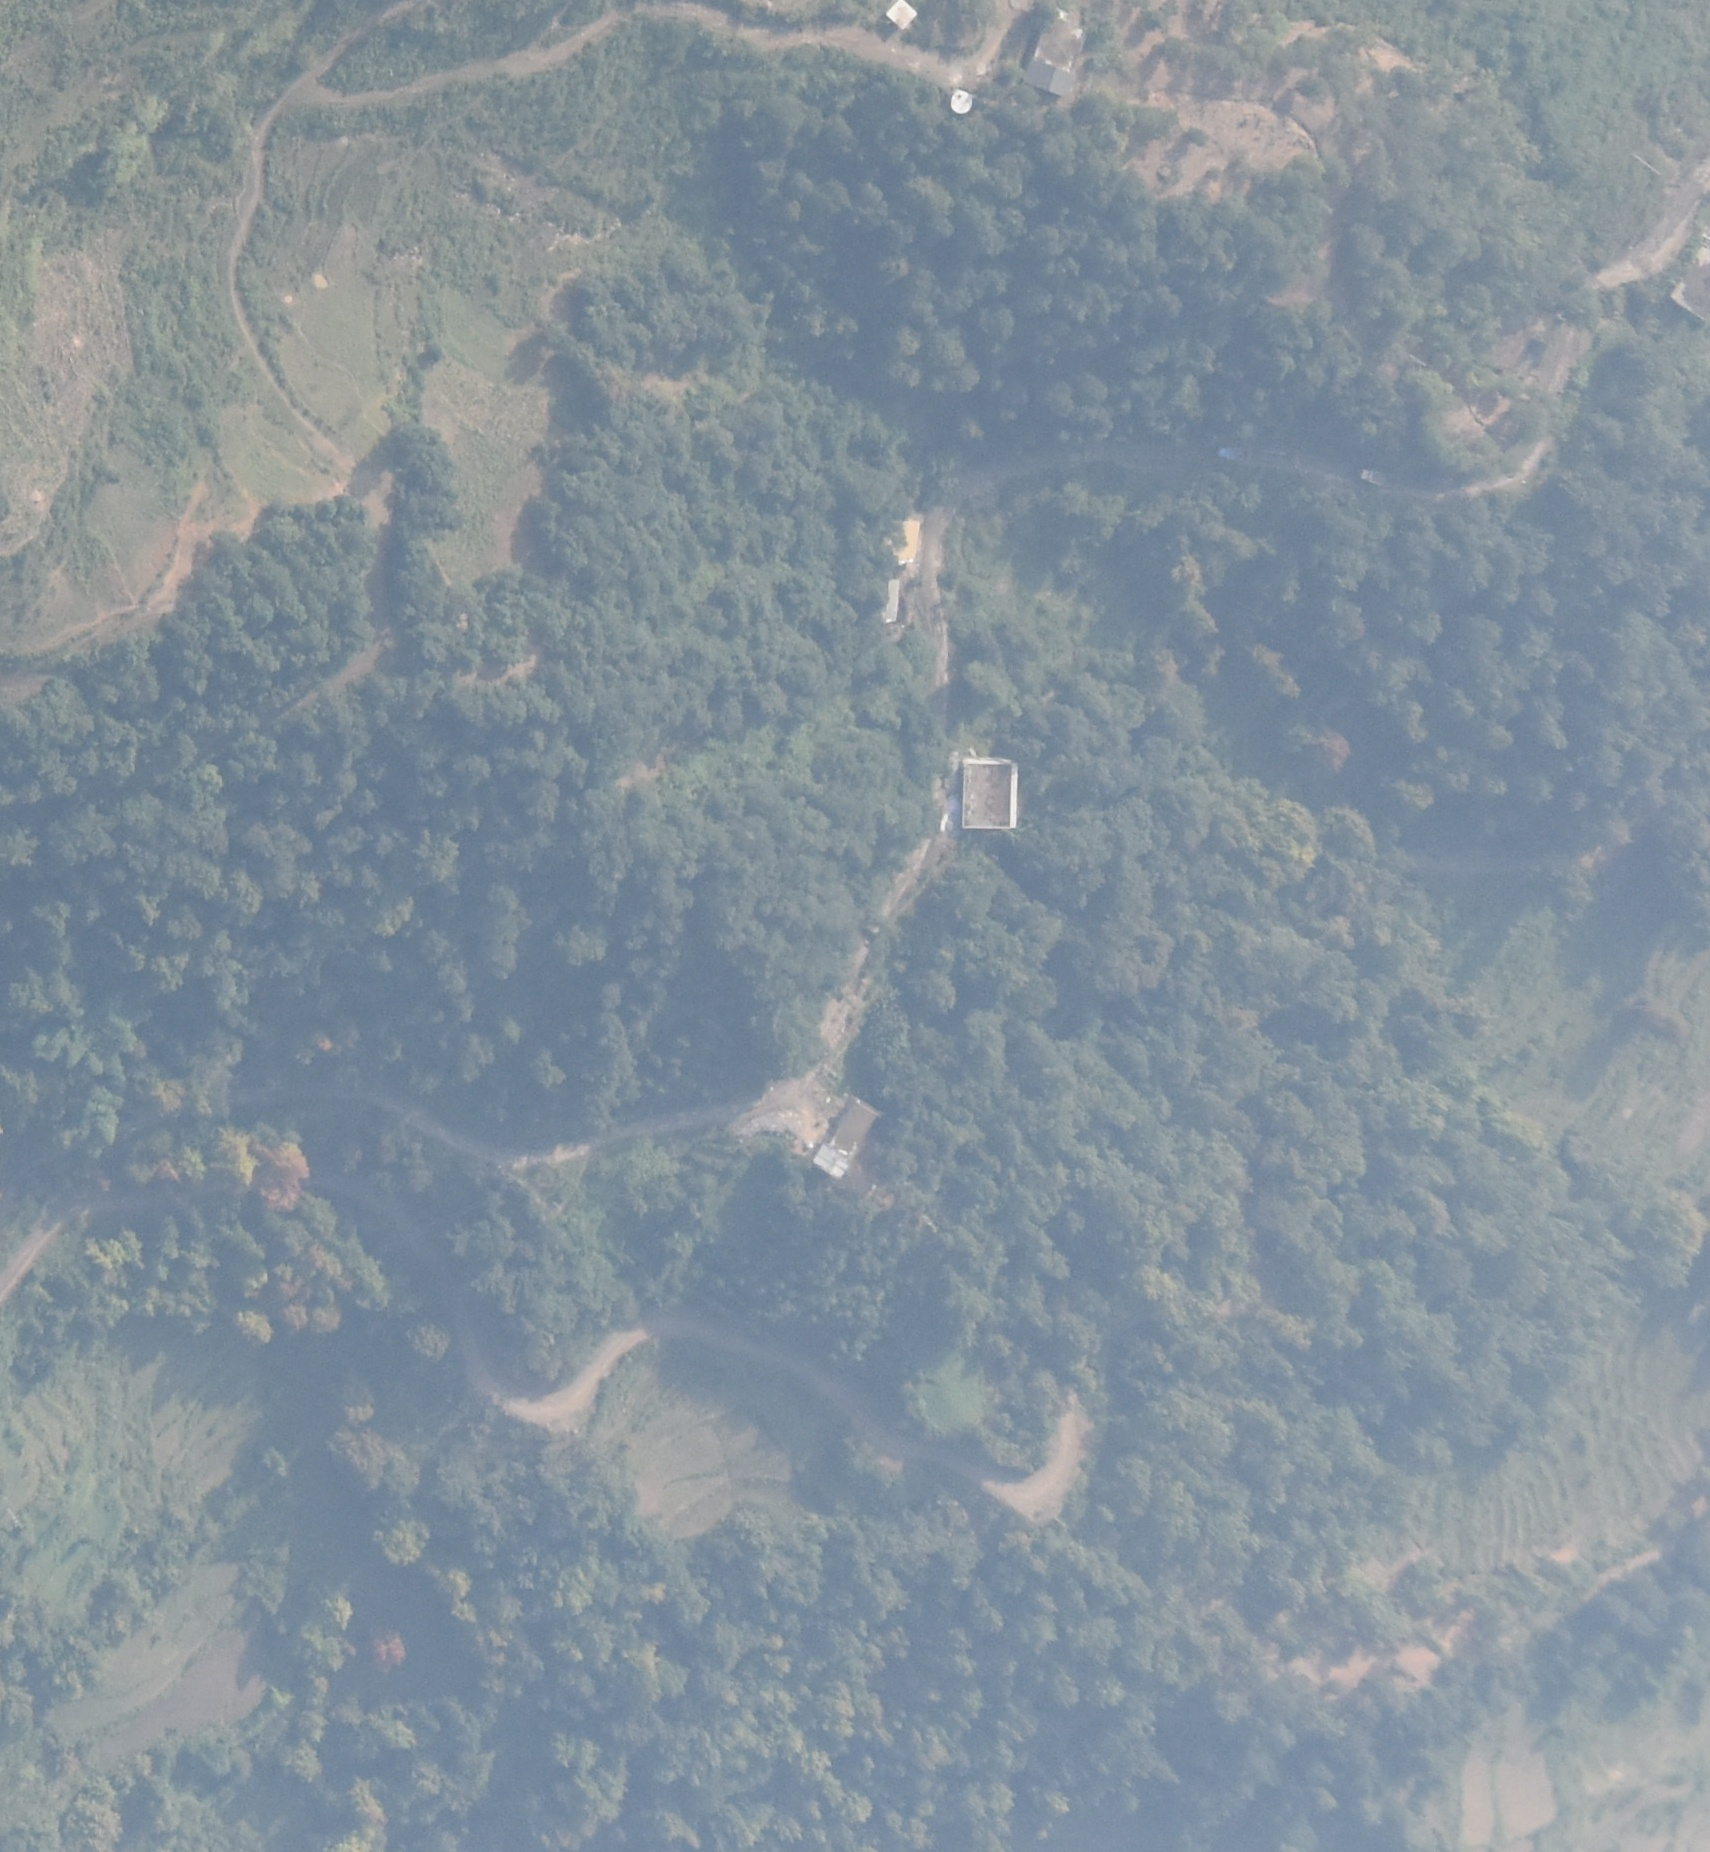building: (808, 1091, 887, 1183), (955, 752, 1024, 837), (1021, 16, 1091, 102), (878, 568, 903, 624), (879, 2, 916, 31)
well: (942, 82, 986, 116)
